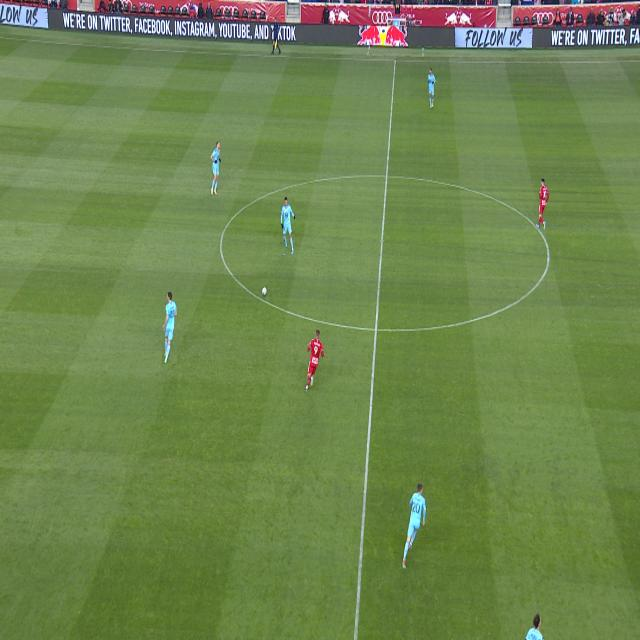football: (262, 287, 267, 296)
player: (402, 483, 426, 570), (305, 329, 324, 392), (163, 292, 177, 364), (281, 198, 295, 254), (536, 178, 549, 230), (210, 141, 221, 195), (525, 614, 544, 640), (428, 68, 436, 109)
